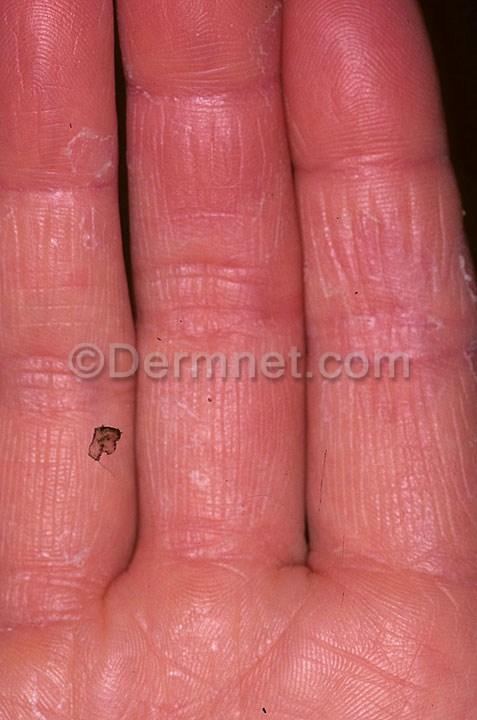Eczema: (0, 163, 155, 406), (291, 0, 453, 222), (159, 453, 303, 696), (0, 436, 152, 661), (159, 190, 302, 425), (343, 499, 477, 715), (128, 0, 298, 168), (358, 253, 477, 484), (0, 0, 119, 166)
